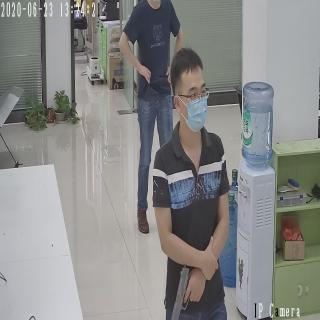gun: (169, 264, 204, 320)
